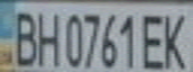0: (60, 8, 84, 69)
1: (115, 8, 142, 70)
6: (100, 8, 121, 70)
7: (81, 8, 103, 70)
B: (6, 4, 42, 68)
E: (139, 8, 169, 71)
H: (33, 7, 63, 68)
K: (157, 8, 193, 72)
